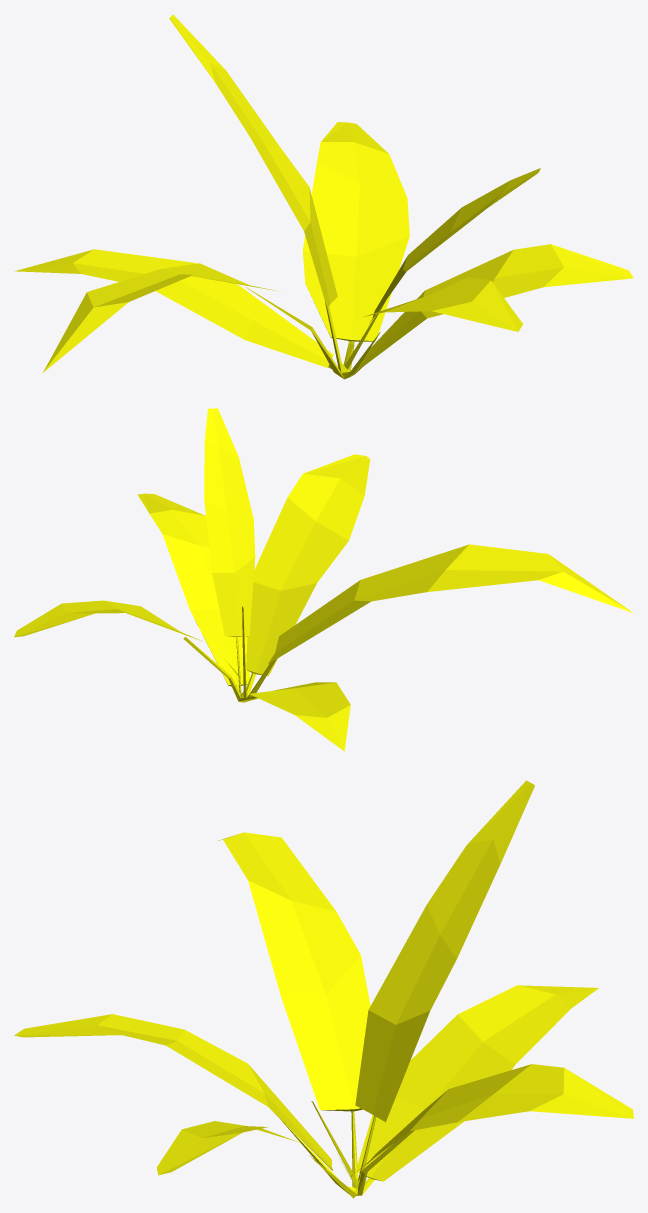
Rendered from fern_a.glb.
The picture shows the model from 3 angles, top to bottom: view 1: azimuth 30°, elevation 25°; view 2: azimuth 150°, elevation 25°; view 3: azimuth 270°, elevation 25°; orthographic projection. The views are drawn at different scales.
Visible parts, largest first — view 1: SM_Fern_01; view 2: SM_Fern_01; view 3: SM_Fern_01.
Boxes of the visible parts, x1,y1,x2,y2 form: SM_Fern_01: [15, 14, 633, 379]; SM_Fern_01: [14, 408, 632, 751]; SM_Fern_01: [14, 780, 633, 1198].
Bounding box in the file's own units: 1.6 × 0.8799 × 1.36.
